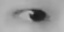Non-LeftEyeFatigue: (6, 3, 55, 29)
